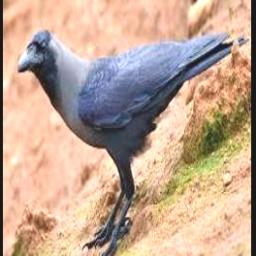Crow: (18, 28, 250, 256)
